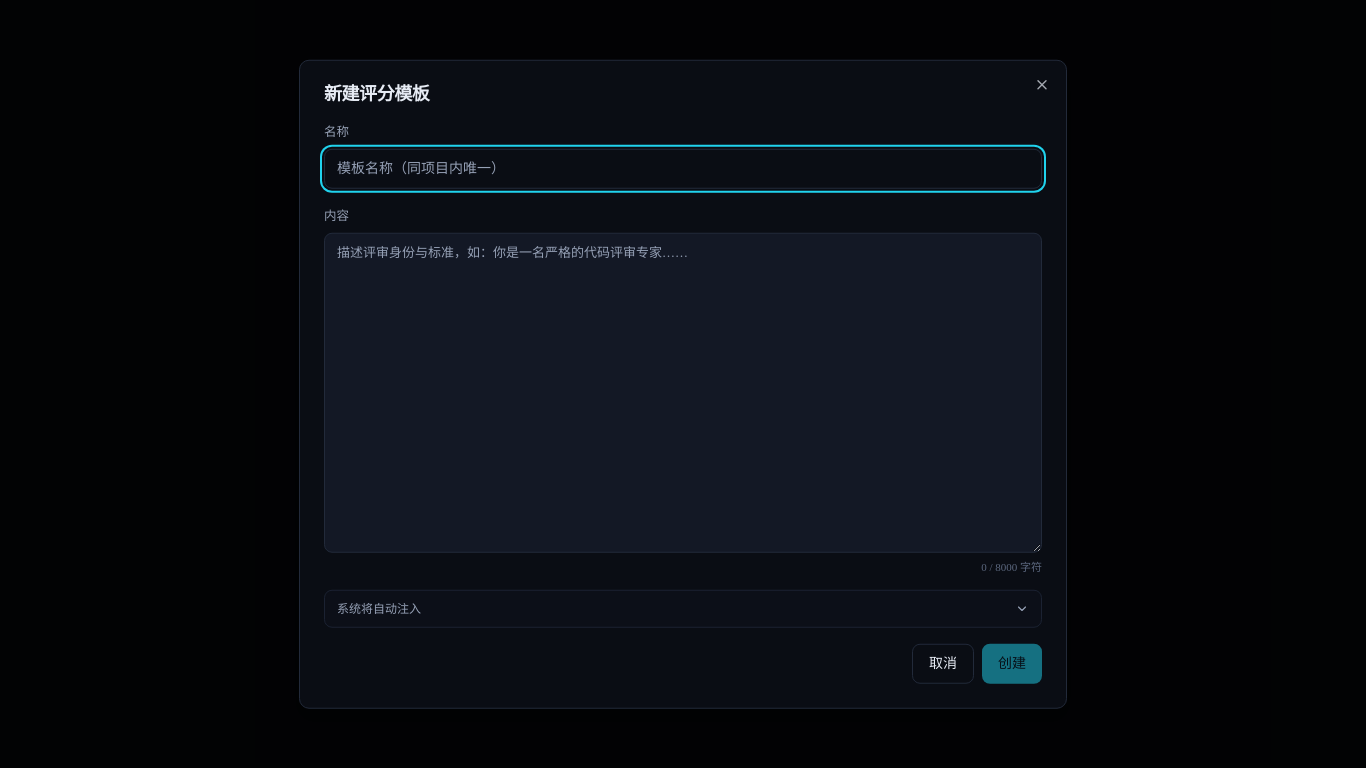
Test: JudgeTemplateEditorDialog › surfaces a 409 conflict inline instead of closing
Type "新模板" into the field with placeholder "模板名称（同项目内唯一）". click: point(683, 169)
box: [324,149,1042,189]
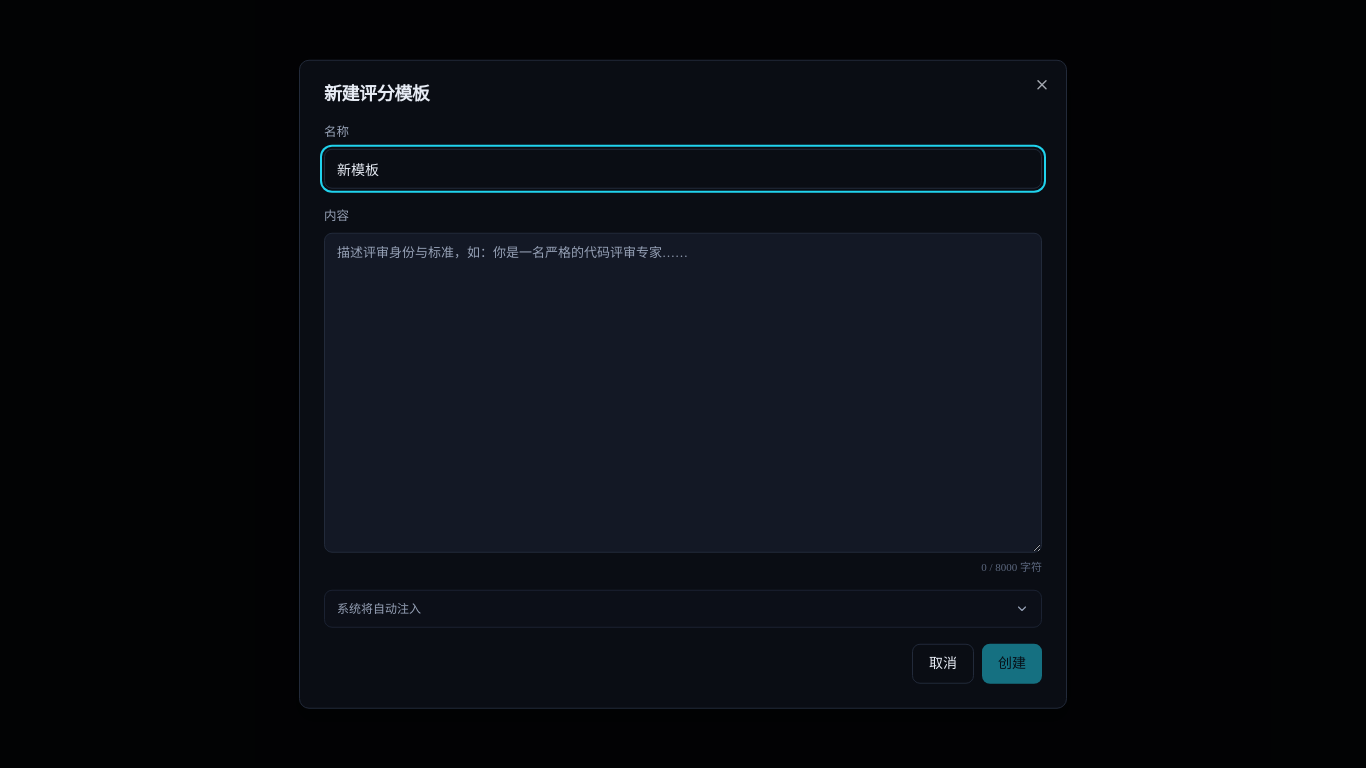
Type "内容" into the text box with placeholder "描述评审身份与标准，如：你是一名严格的代码评审专家……". click: point(683, 393)
box: [324,233,1042,553]
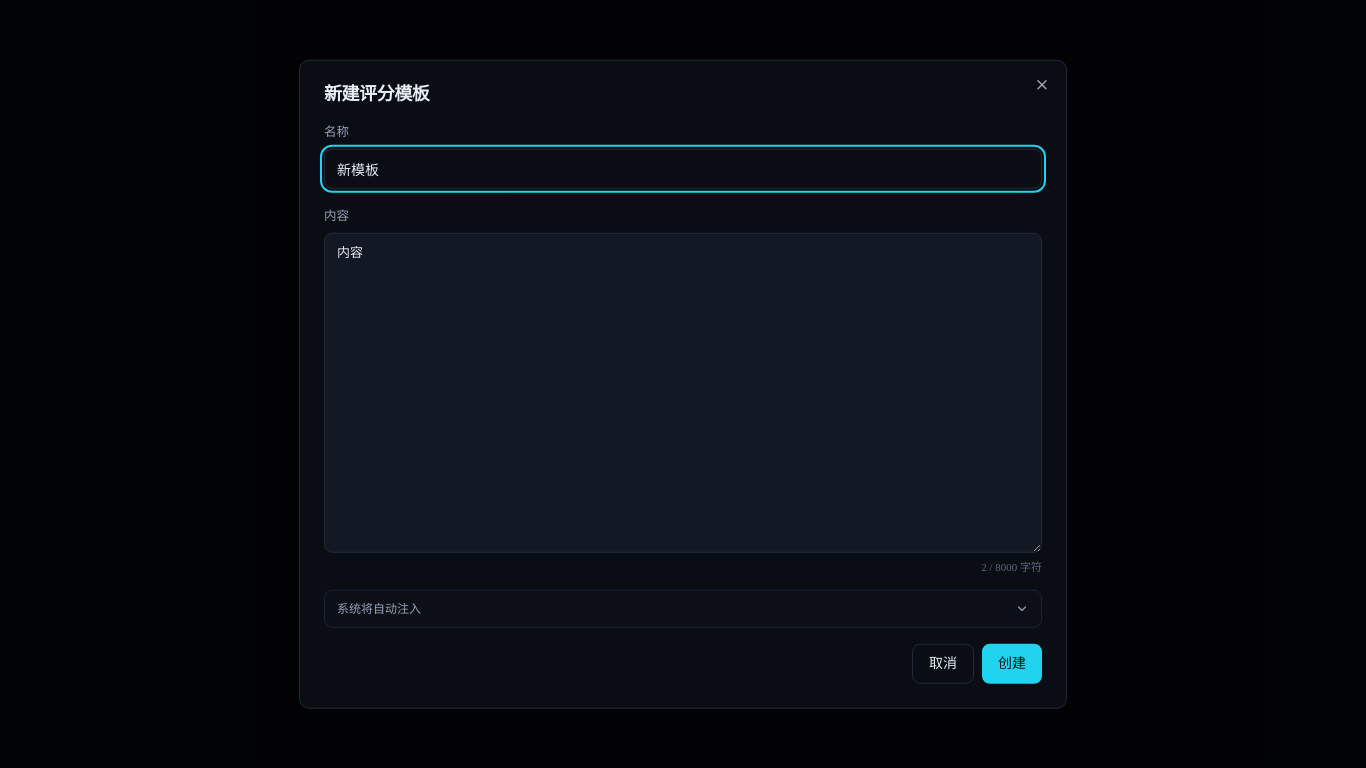
Click the button "创建". click: point(1012, 663)
box: [982,643,1042,683]
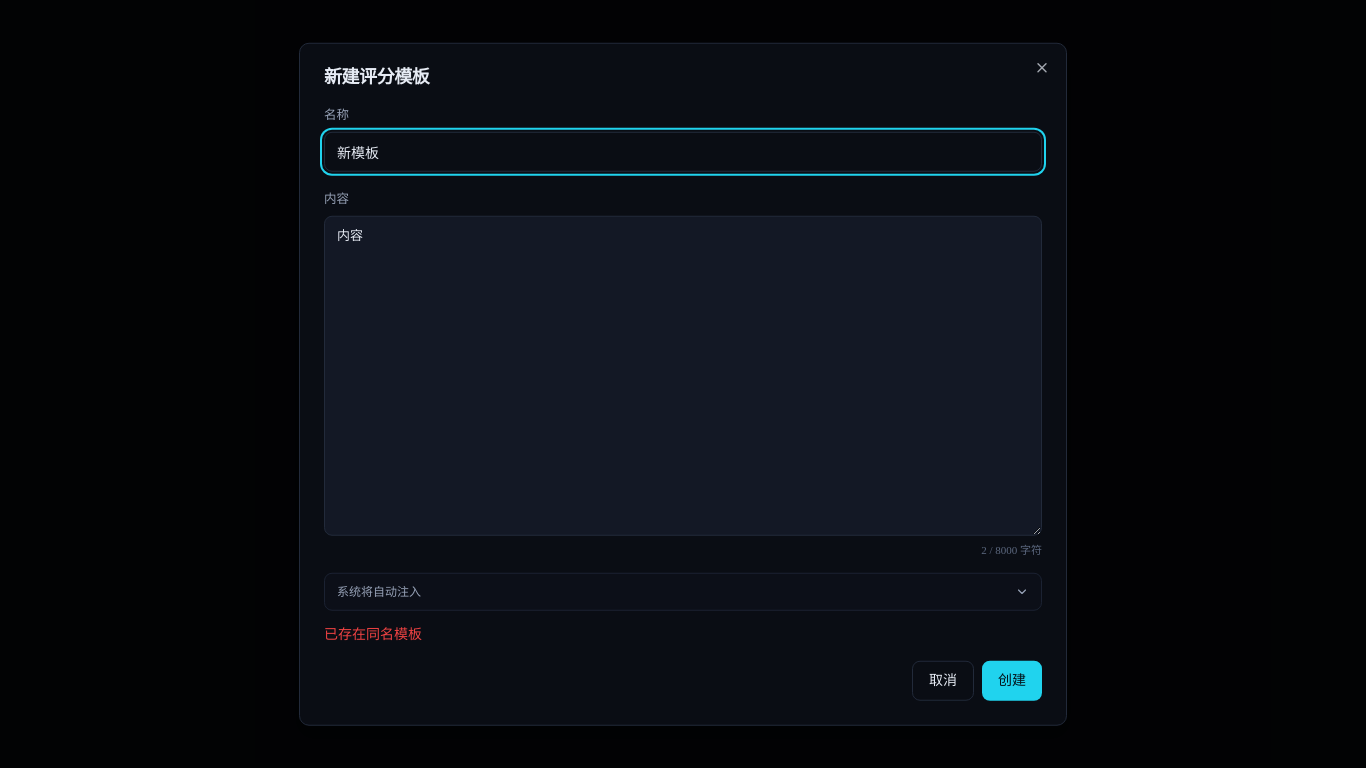
Now the text "已存在同名模板" is shown, box [324,626,422,641]
